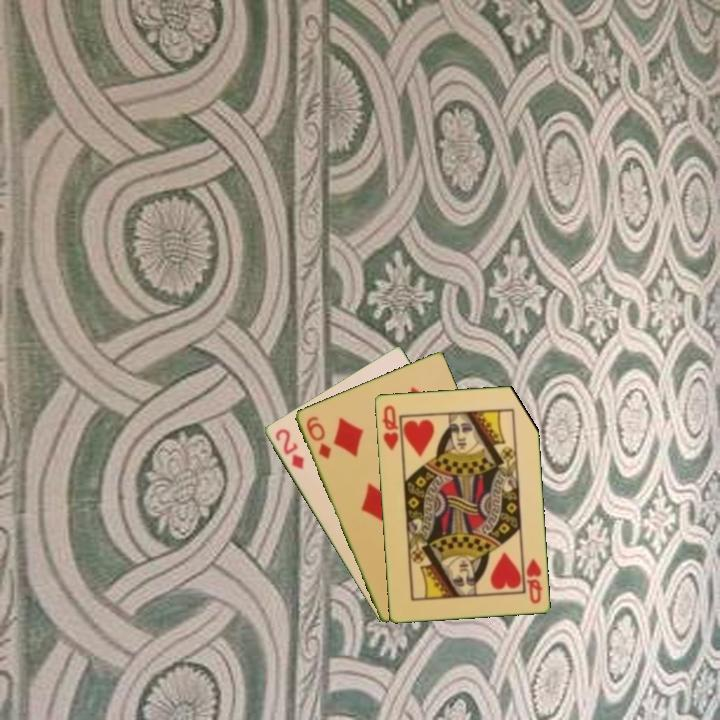2d: (271, 425, 307, 472)
6d: (302, 412, 334, 462)
Qh: (522, 554, 545, 606), (379, 402, 401, 453)
